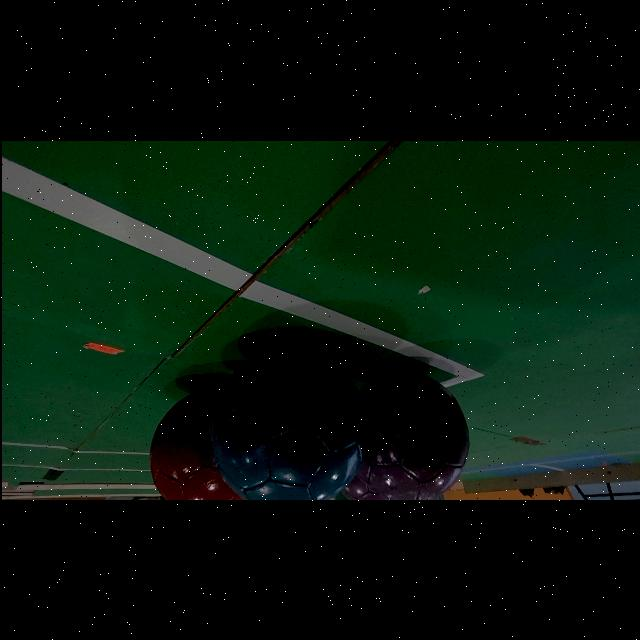B: (207, 349, 365, 500)
P: (355, 372, 468, 500)
R: (148, 390, 239, 500)
